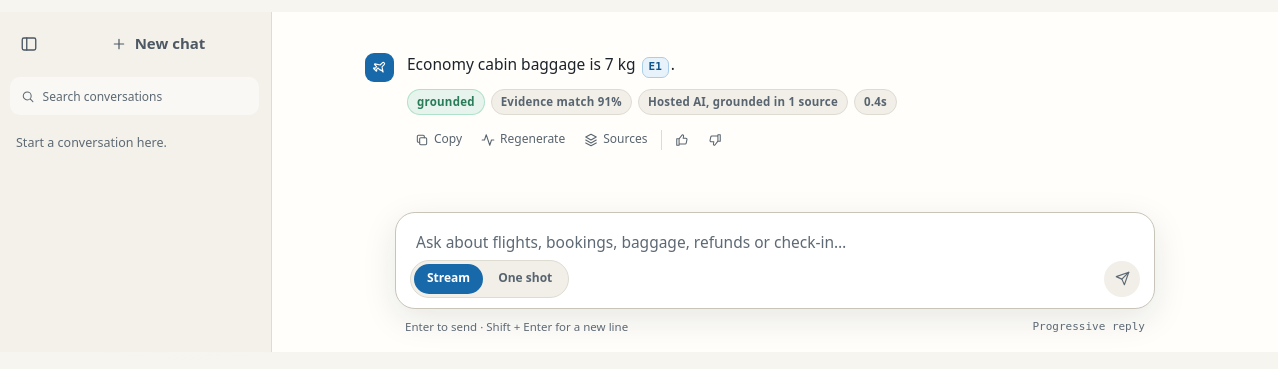
Test: ChatWorkspace response controls › opens restored citation evidence from the source drawer
Click the button "Sources". click: {"x": 616, "y": 140}
box: left=576, top=123, right=656, bottom=157
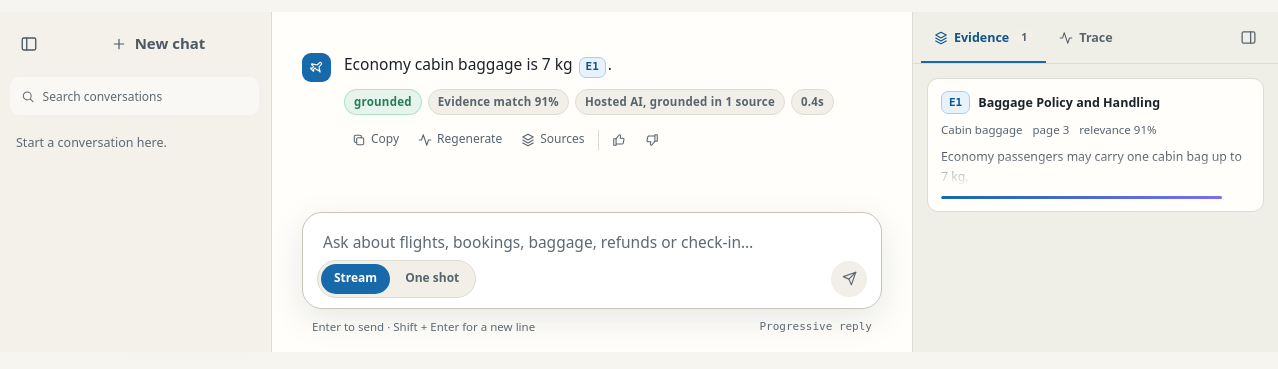
Check: the text "Baggage Policy and Handling" is shown, box left=978, top=93, right=1160, bottom=112
Check: the text "Economy passengers may carry one cabin bag up to 7 kg." is shown, box left=941, top=147, right=1250, bottom=187
